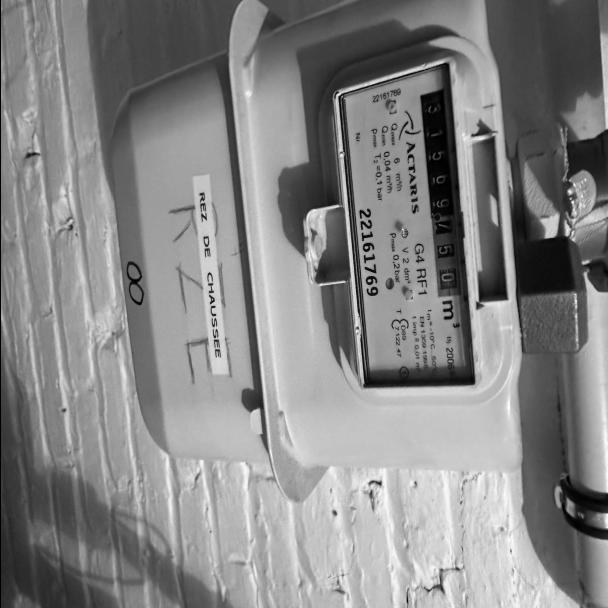0: (431, 264, 459, 292)
1: (416, 122, 448, 142)
3: (418, 96, 448, 122)
5: (418, 143, 449, 167), (432, 241, 458, 265)
6: (426, 170, 456, 194)
7: (431, 216, 457, 241)
9: (424, 192, 454, 217)
cm: (425, 216, 462, 304)
counter: (422, 85, 452, 217)
